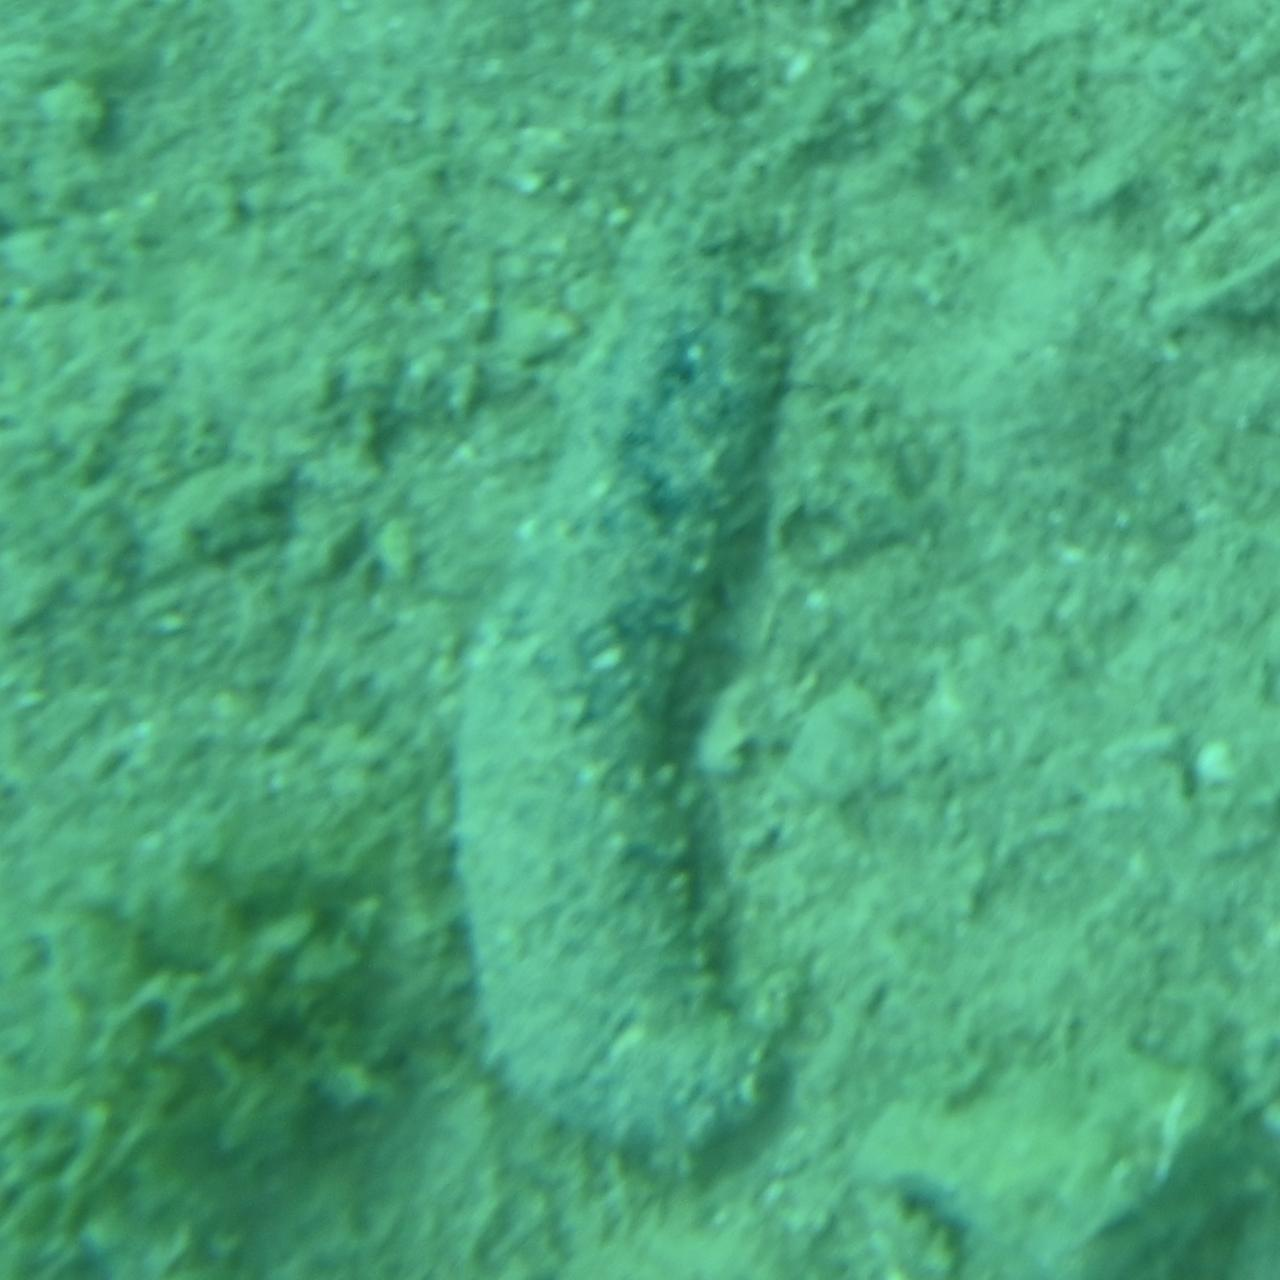Holothuria tubulosa: (454, 124, 826, 1156)
